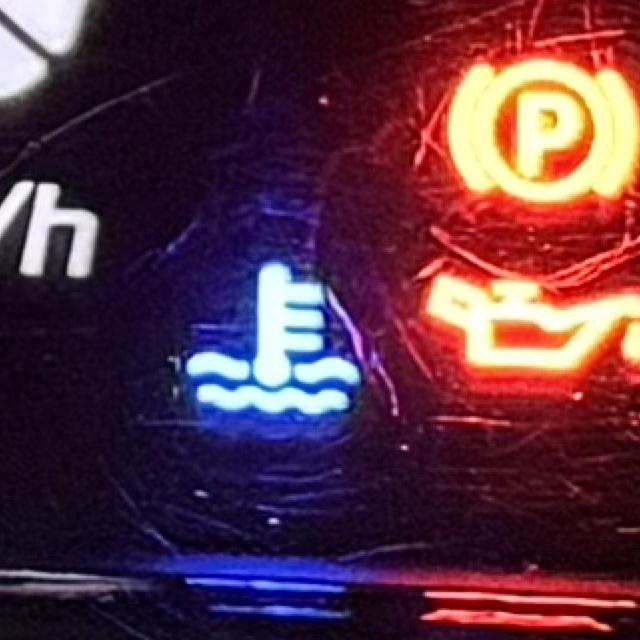High Engine Temperature: (182, 253, 374, 419)
Low Oil Pressure Issue: (422, 254, 640, 378)
Parking Break On: (445, 54, 640, 207)
